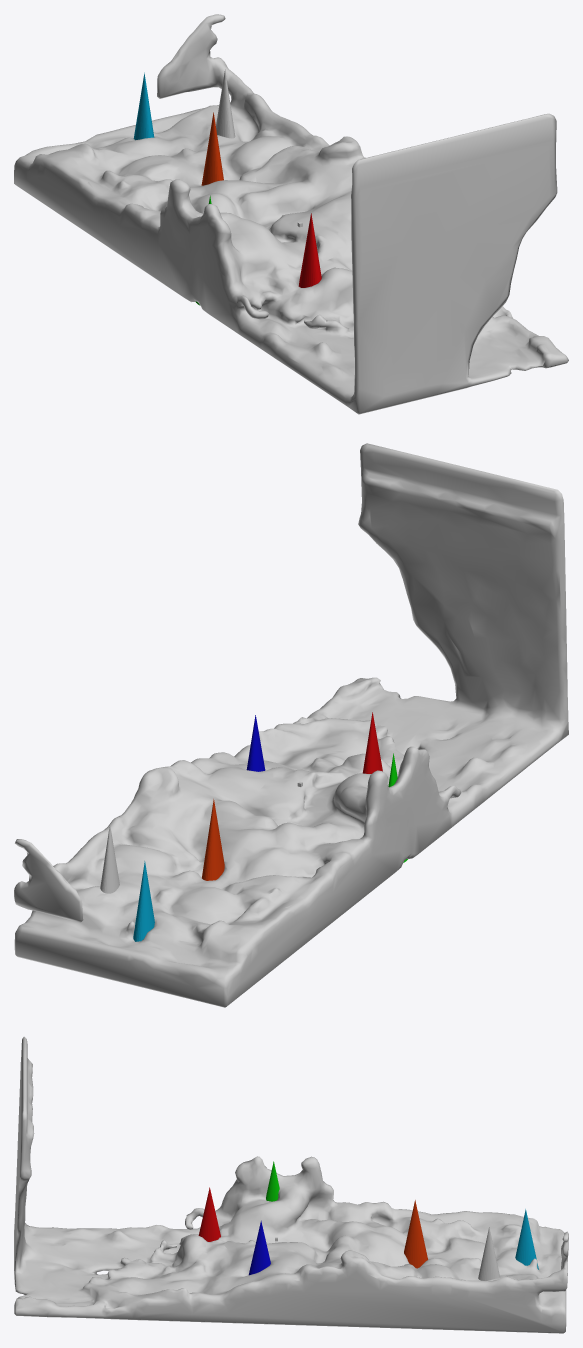
The picture shows the model from 3 angles, top to bottom: view 1: azimuth 30°, elevation 25°; view 2: azimuth 150°, elevation 25°; view 3: azimuth 270°, elevation 25°; orthographic projection. The views are drawn at different scales.
Visible parts, largest first — view 1: Liquid_Domain, 円錐.001, 円錐.004, 円錐, 円錐.005; view 2: Liquid_Domain, 円錐.004, 円錐.005, 円錐; view 3: Liquid_Domain, 円錐.004, 円錐.001, 円錐.005, 円錐, 円錐.002.
Part boxes in pixels (x1,y1,x2,y2): Liquid_Domain: (14,14,568,414); 円錐.001: (298,213,321,287); 円錐.004: (201,112,223,185); 円錐: (216,69,235,138); 円錐.005: (133,72,154,140); Liquid_Domain: (14,443,568,1007); 円錐.004: (202,799,224,880); 円錐.005: (133,861,154,941); 円錐: (100,824,119,893); Liquid_Domain: (14,1036,568,1333); 円錐.004: (404,1200,427,1268); 円錐.001: (198,1187,220,1241); 円錐.005: (515,1209,538,1269); 円錐: (478,1227,500,1280); 円錐.002: (248,1220,270,1275).
Size of the model in its own units: 129 by 158 by 363.
